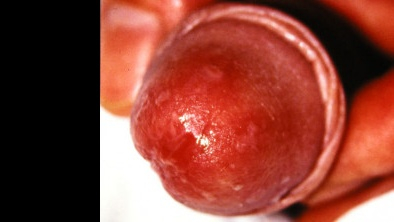SJS-TEN: (105, 34, 314, 222)
